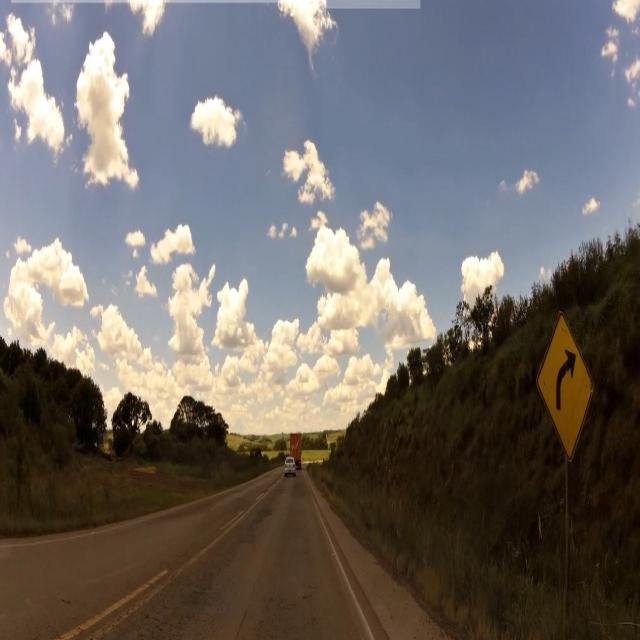A-2b: (539, 316, 596, 461)
